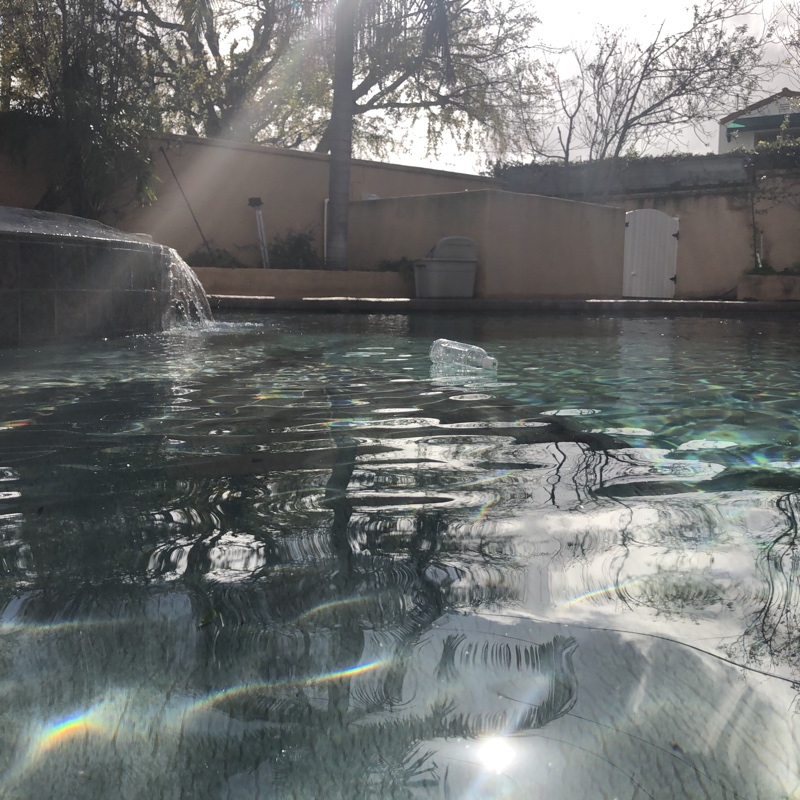Plastic Bottle: (426, 333, 499, 378)
